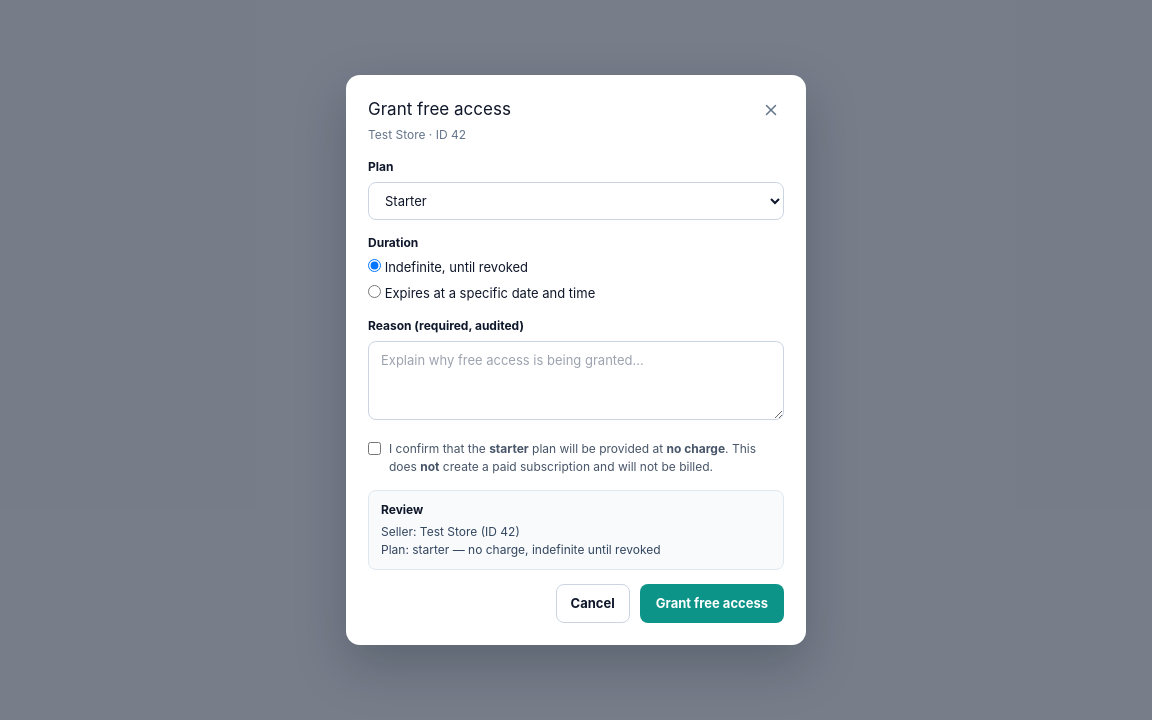
Test case: FreeAccessModal validation › blocks submission until the free-of-charge confirmation is checked
Type "Goodwill after incident" into the text box labelled "Reason (required, audited)" at coordinates (576, 381), box [368,341,784,420]
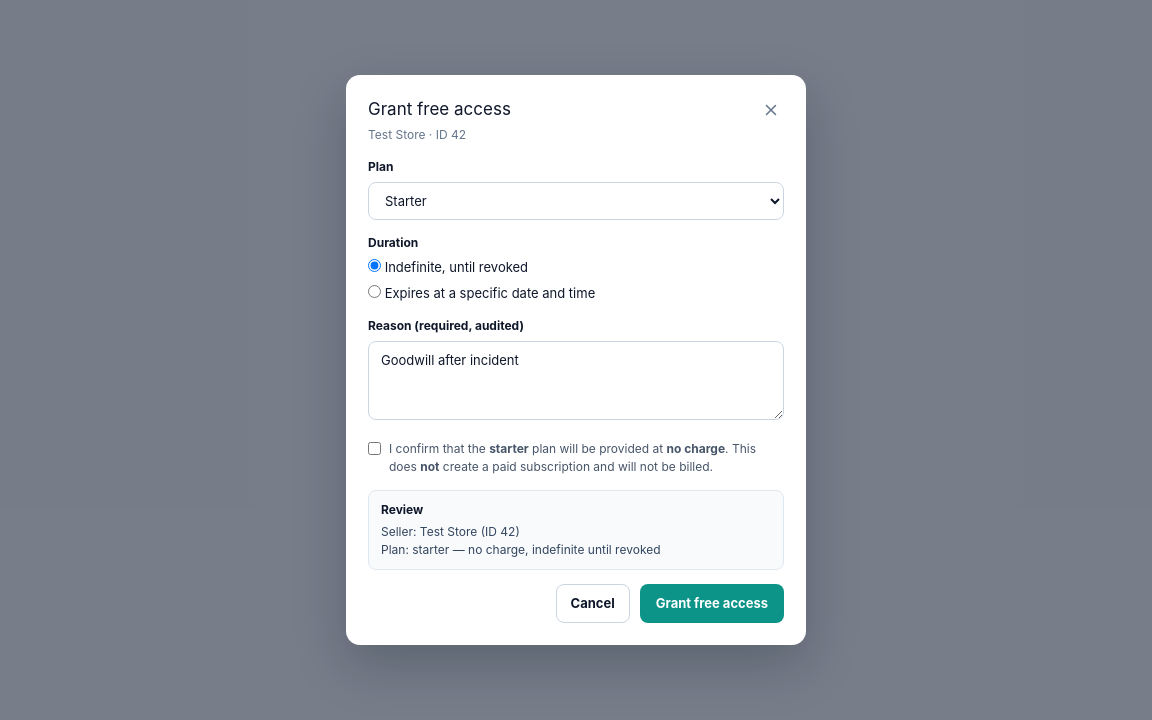
Click the button "Grant free access" at coordinates (712, 604), box [640,584,784,623]
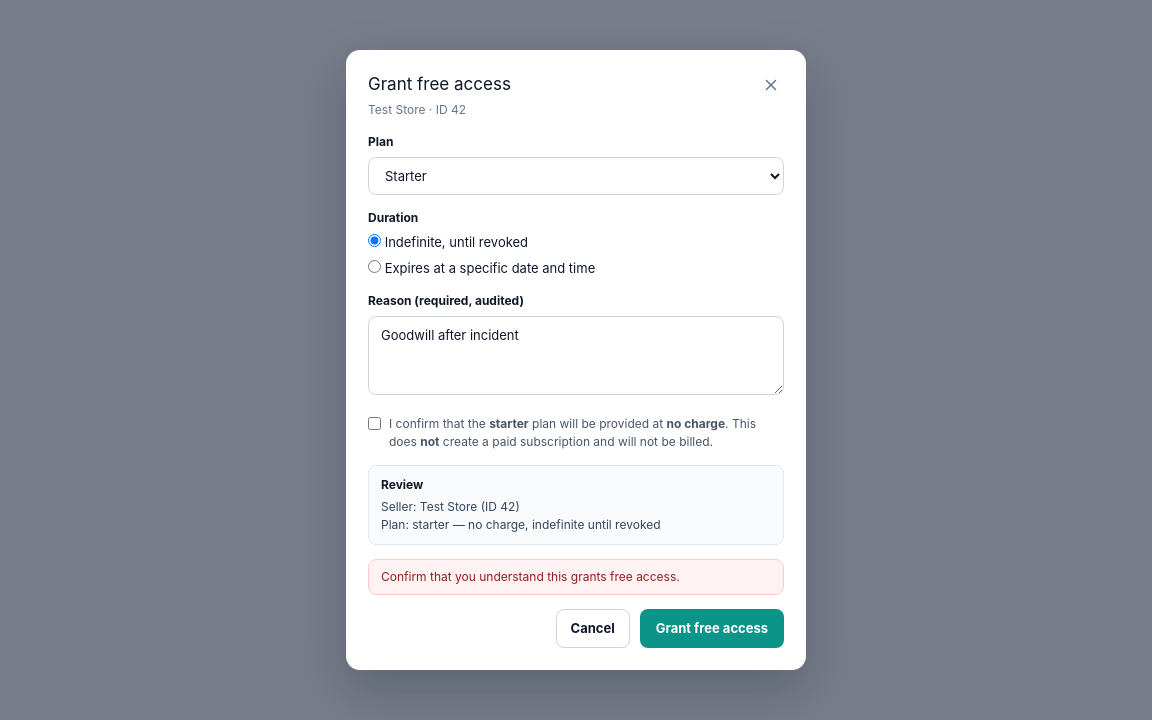
Expected: the message shows "Confirm that you understand", [381,569,680,584]
